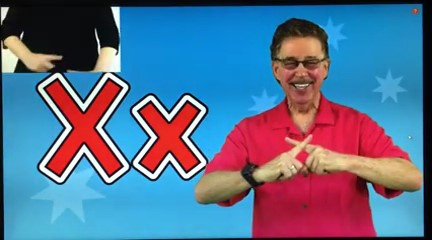X: (261, 128, 346, 185)
